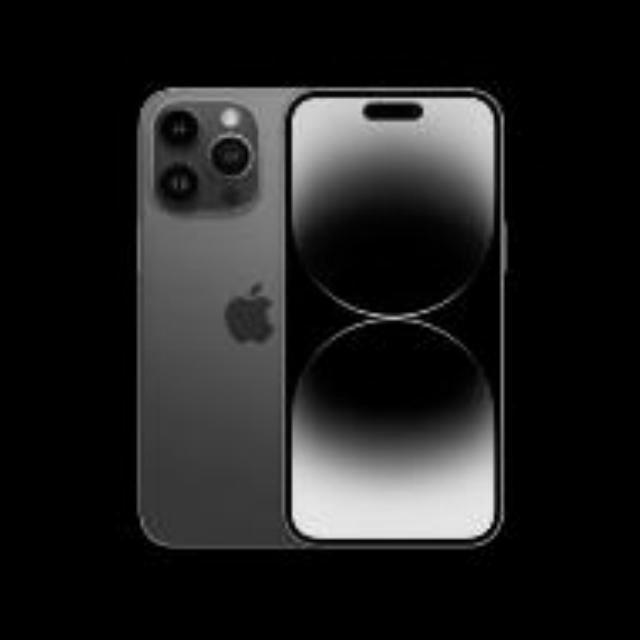fake: (278, 83, 520, 550)
